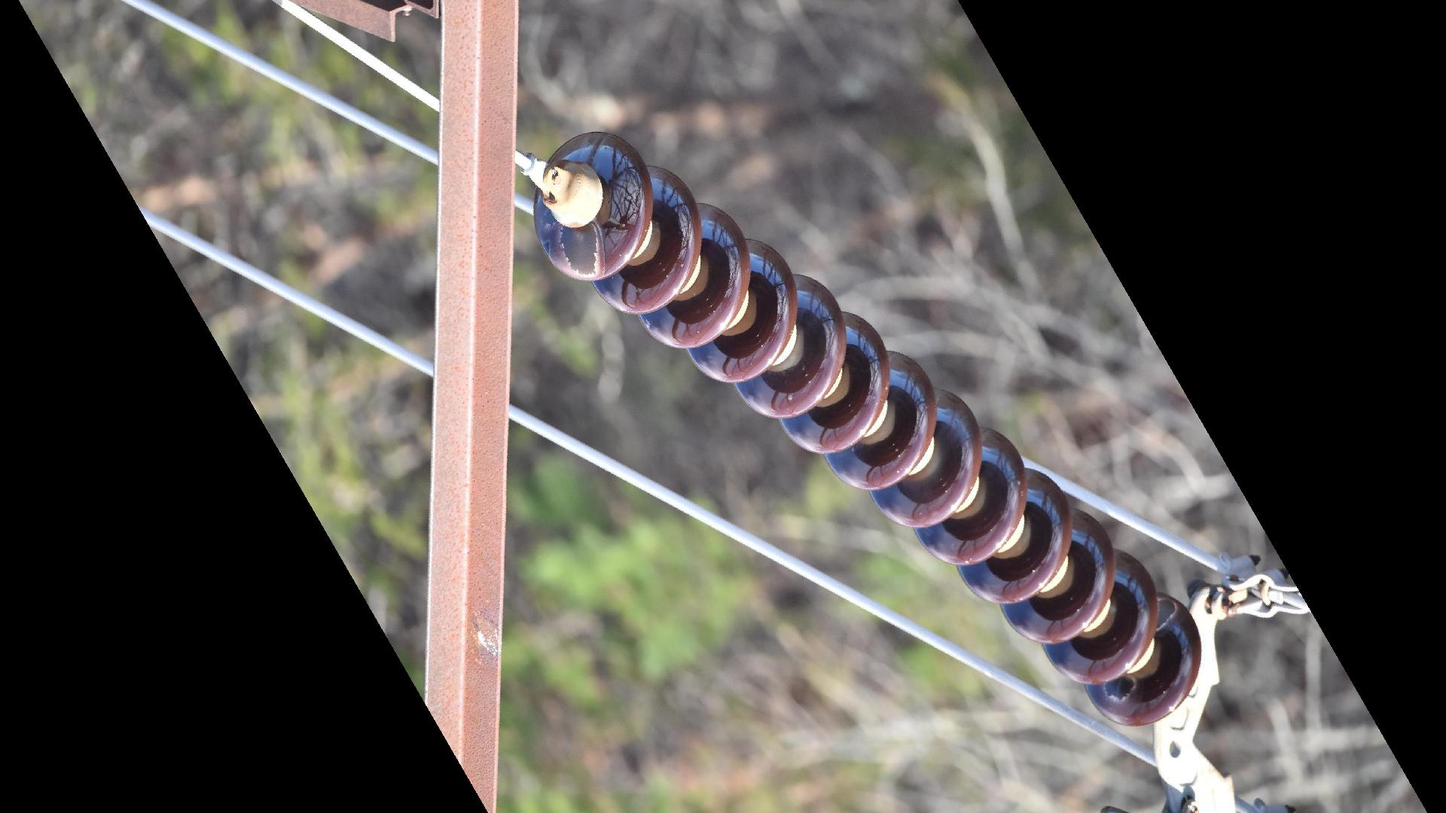insulator: (526, 128, 1207, 728)
insulator_flashover: (556, 221, 604, 278), (1100, 674, 1138, 704), (1152, 595, 1179, 635)
